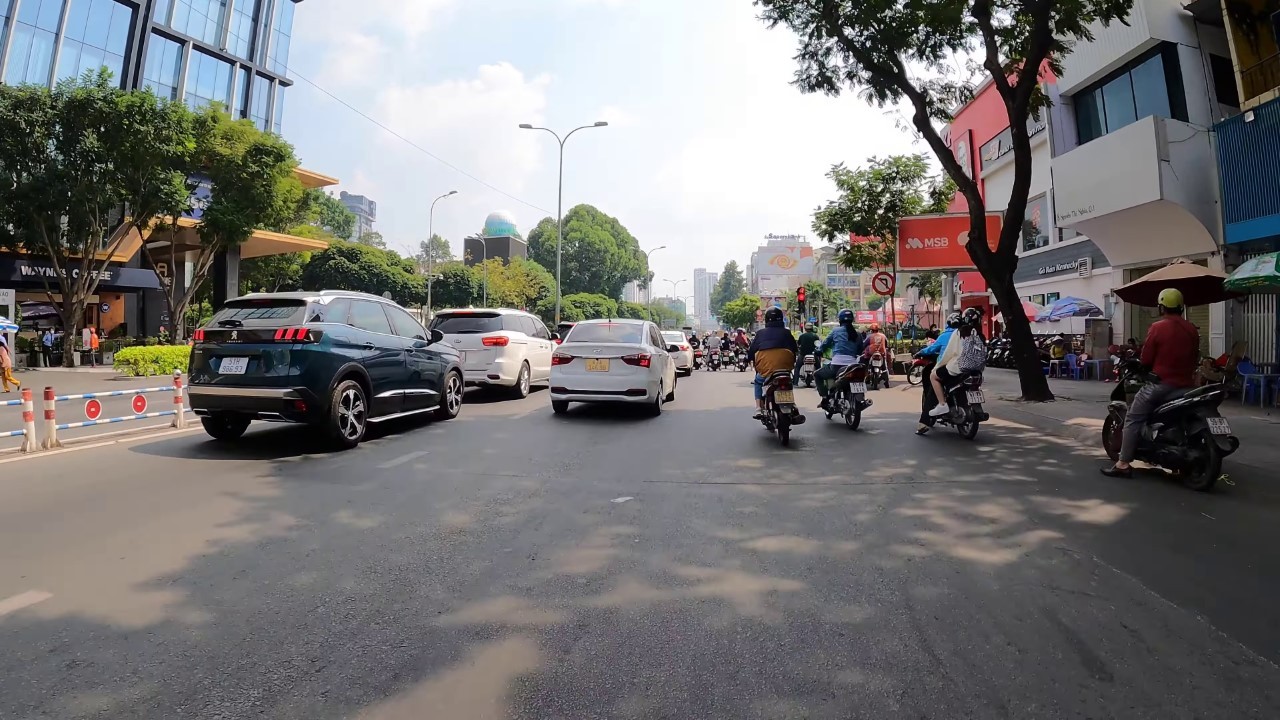cam_re_trai: (870, 270, 898, 297)
